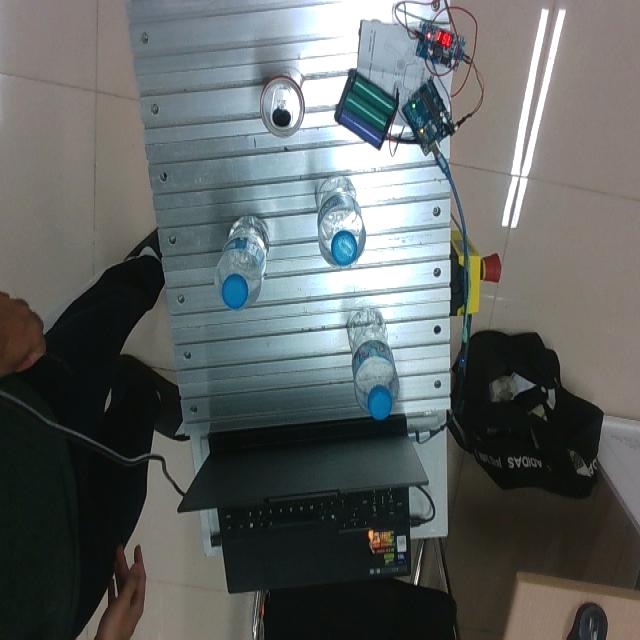coca: (261, 72, 305, 139)
lavie: (348, 307, 400, 420), (216, 216, 270, 309), (317, 178, 366, 270)
